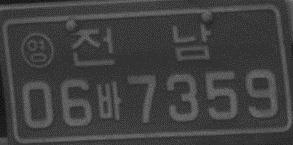0: (20, 79, 54, 131)
3: (165, 72, 199, 123)
5: (204, 70, 238, 122)
6: (59, 78, 93, 127)
7: (125, 74, 158, 123)
9: (244, 68, 279, 119)
바: (95, 80, 122, 122)
영: (20, 32, 54, 70)
전남_D: (70, 24, 212, 68)
